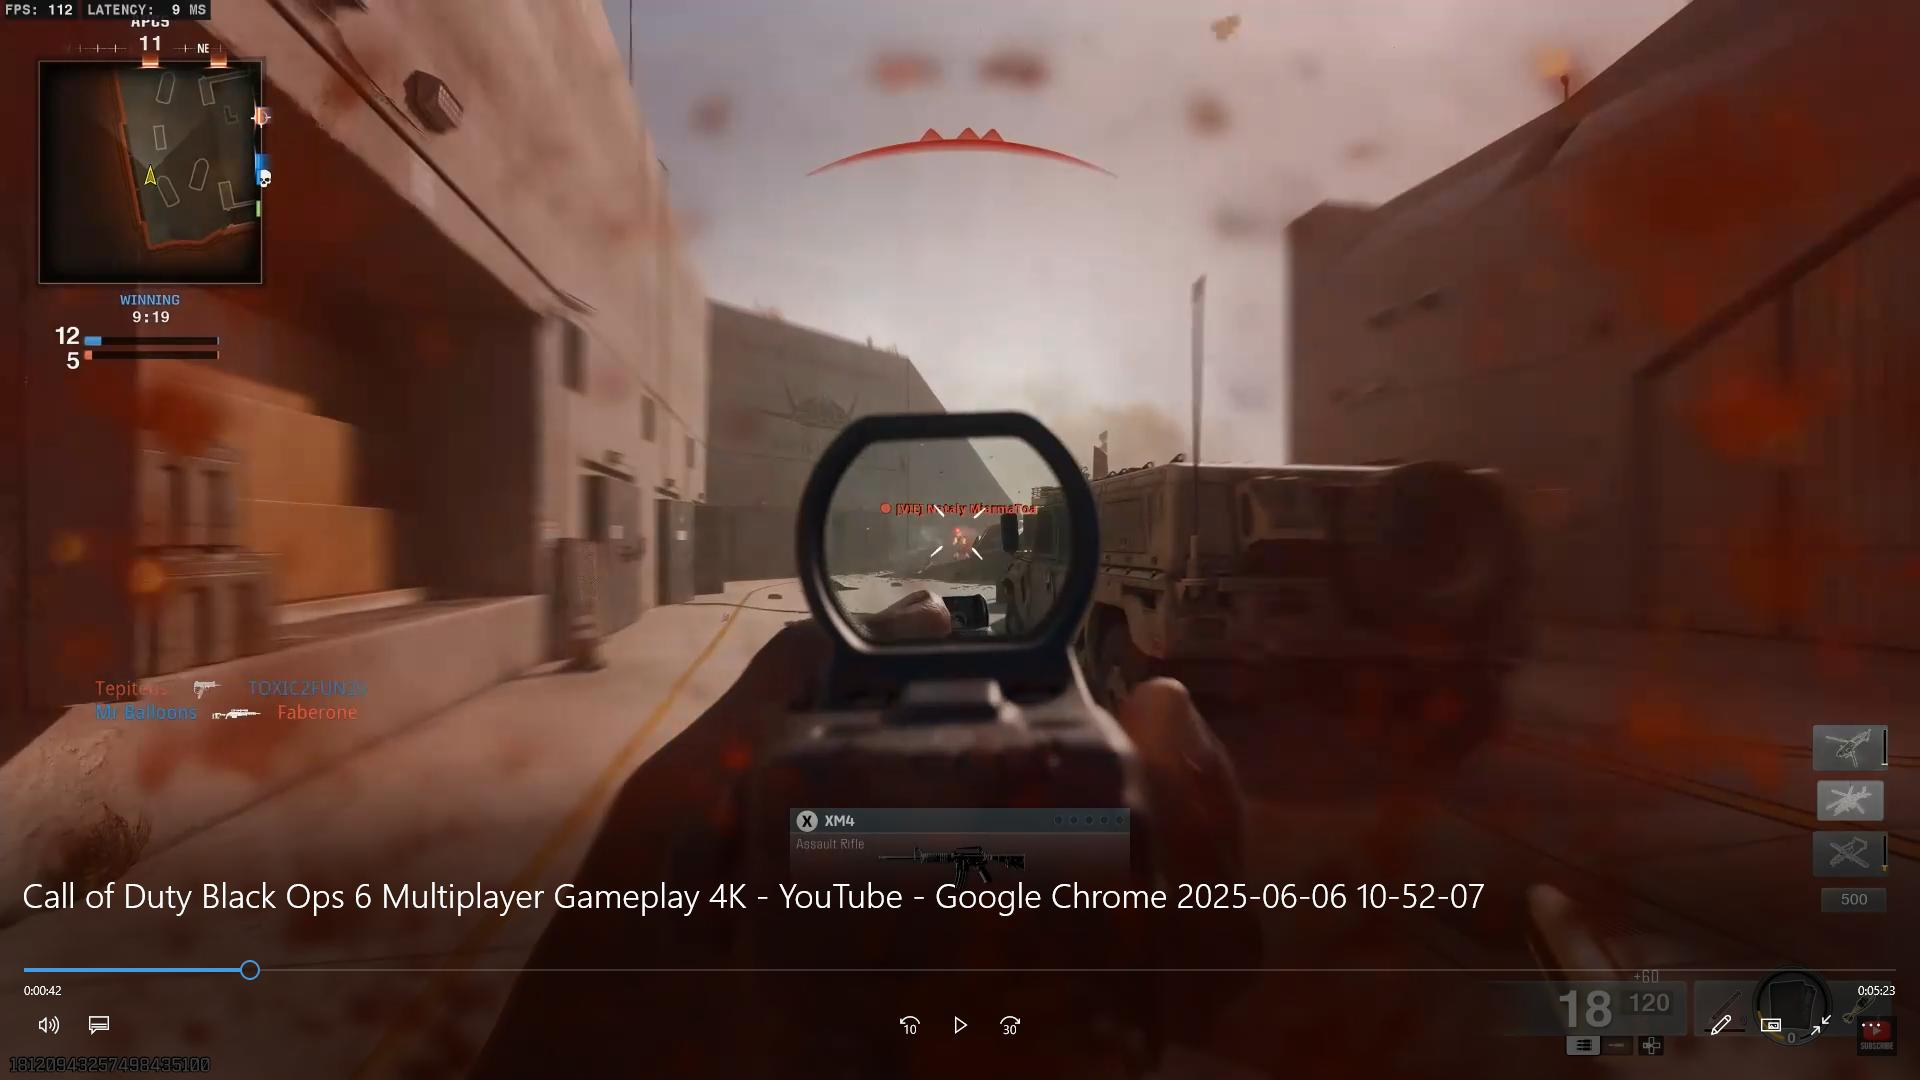Enemy: (899, 479, 1027, 588)
